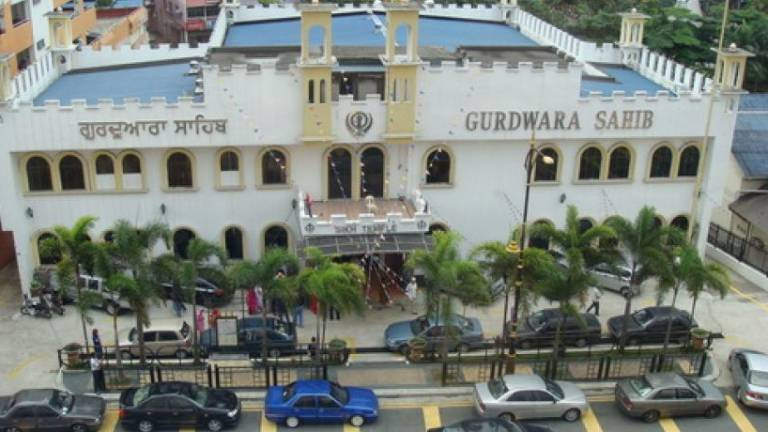Gurdwara: (6, 3, 736, 342)
